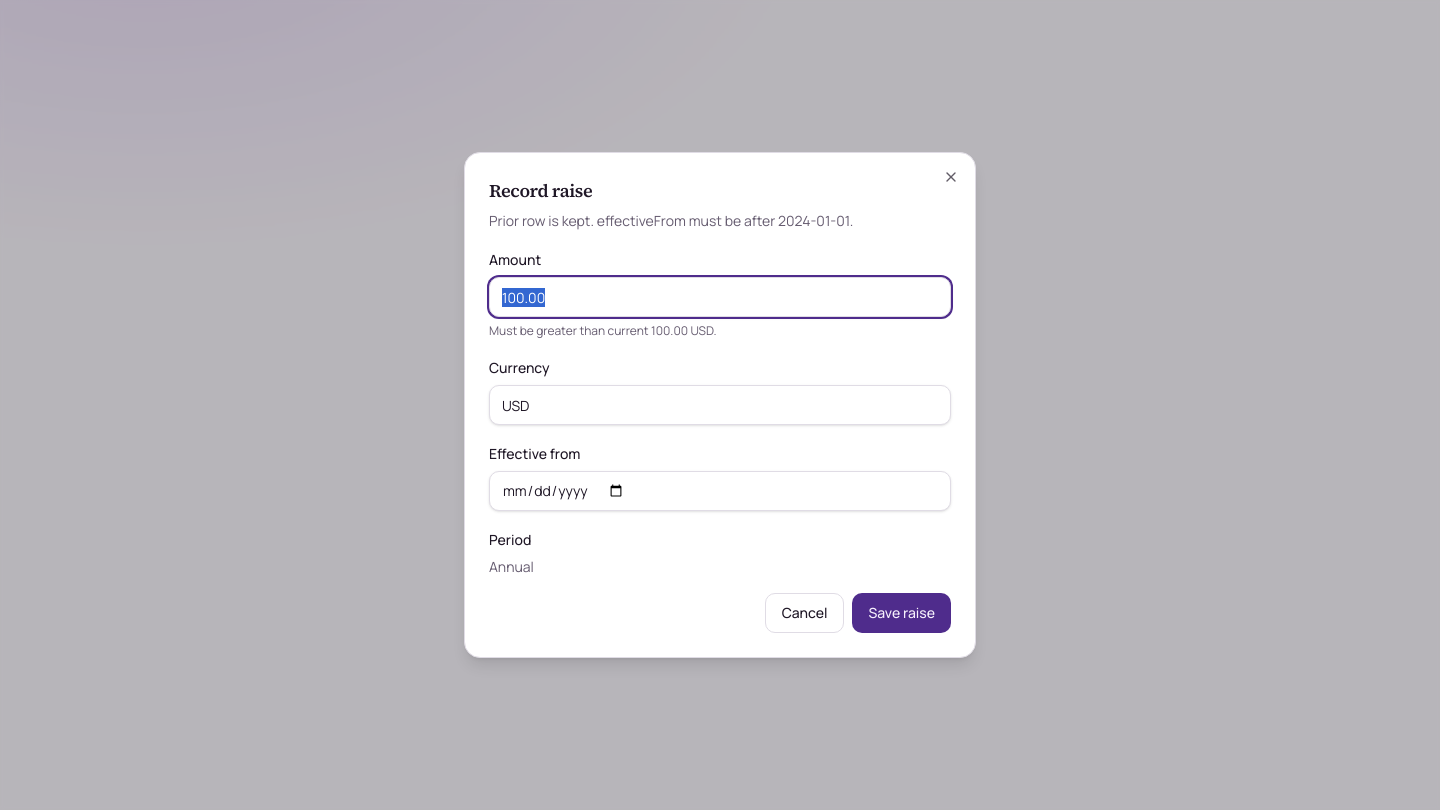
Scenario: SalaryFormDialog › blocks raise when amount is not greater than current
The image size is (1440, 810).
Replace the text in the field labelled "Amount" with "100" at coordinates (720, 297), box [489,277,951,317]
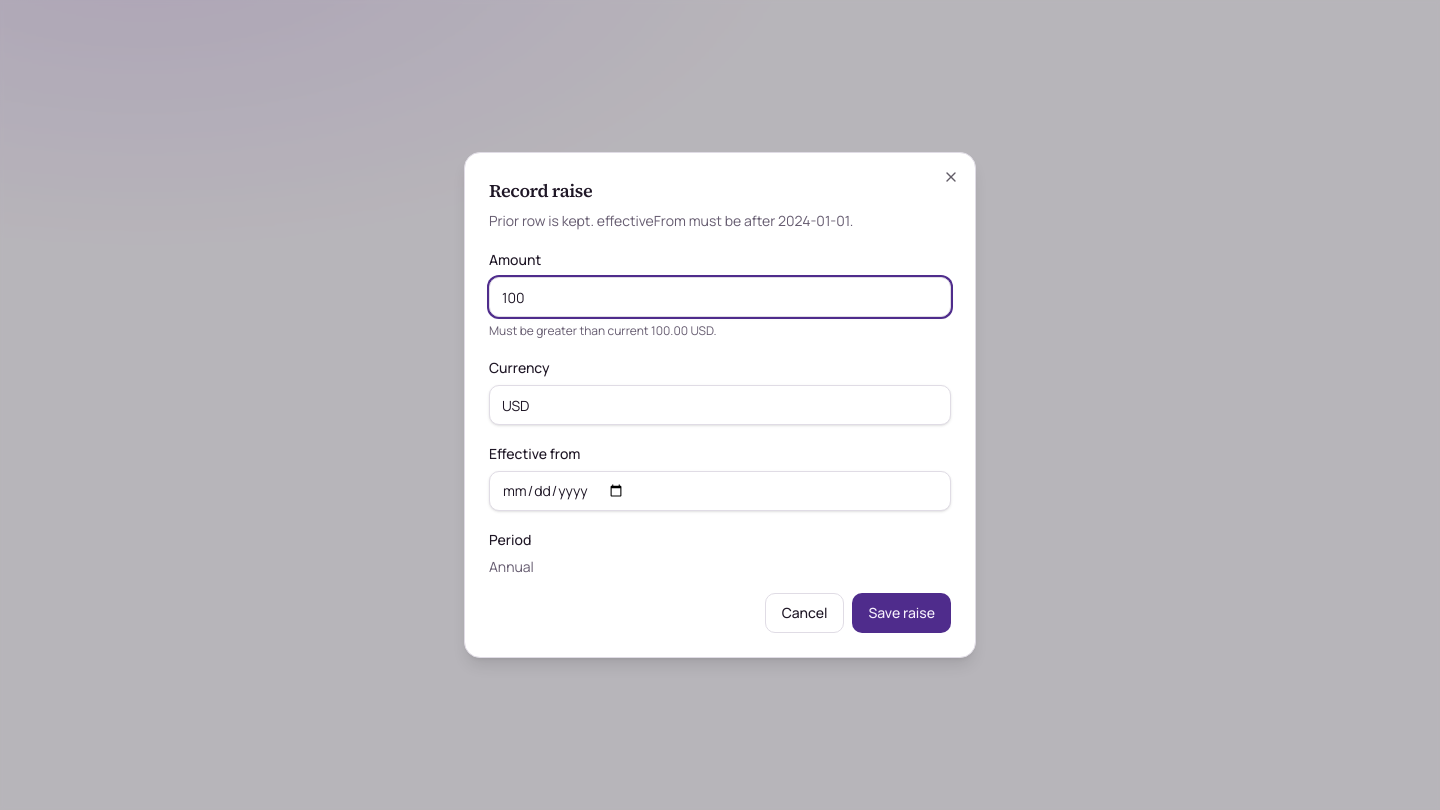
Type "2025-01-01" into the date field labelled "Effective from" at coordinates (720, 491), box [489,471,951,511]
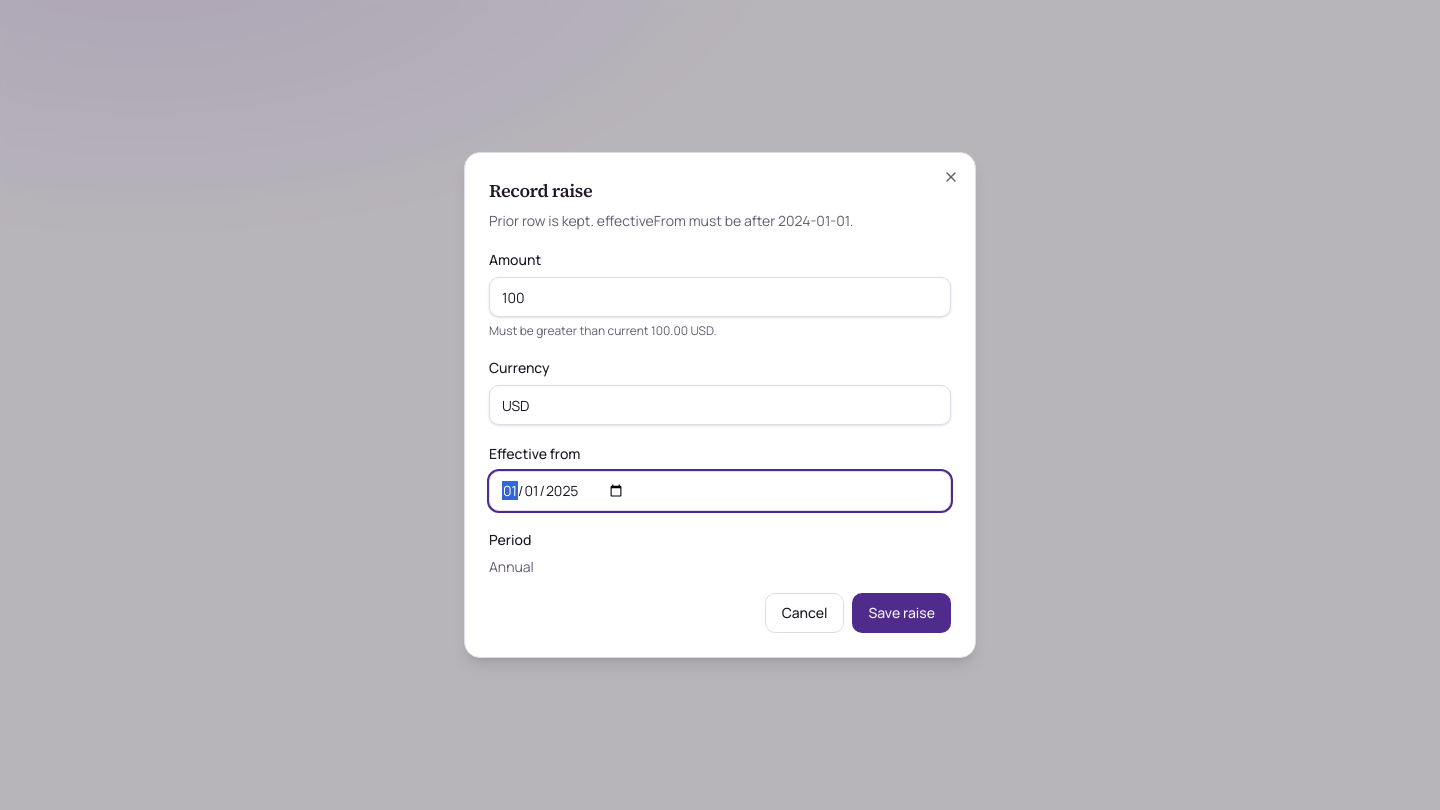
Click the button "Save raise" at coordinates (902, 613), box [852,593,951,633]
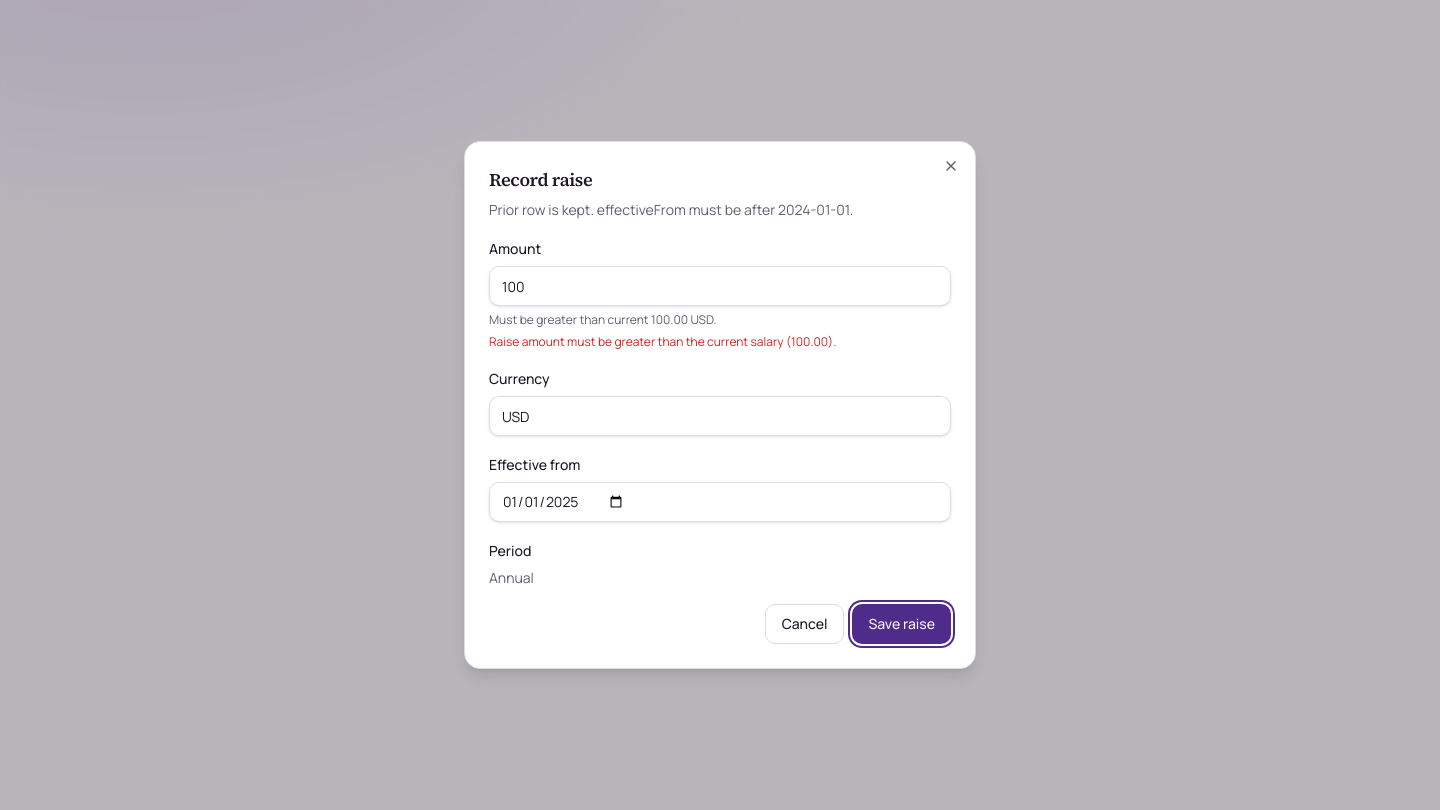
Now the text "Raise amount must be greater than the current salary (100.00)." is shown, box [489,333,836,350]
